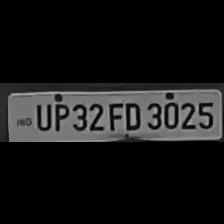0: (160, 98, 178, 128)
2: (88, 98, 104, 132), (179, 98, 195, 130)
3: (144, 98, 162, 130), (70, 99, 86, 131)
5: (194, 97, 214, 129)
D: (122, 98, 142, 130)
F: (105, 98, 121, 130)
P: (52, 99, 68, 131)
U: (34, 99, 50, 130)
